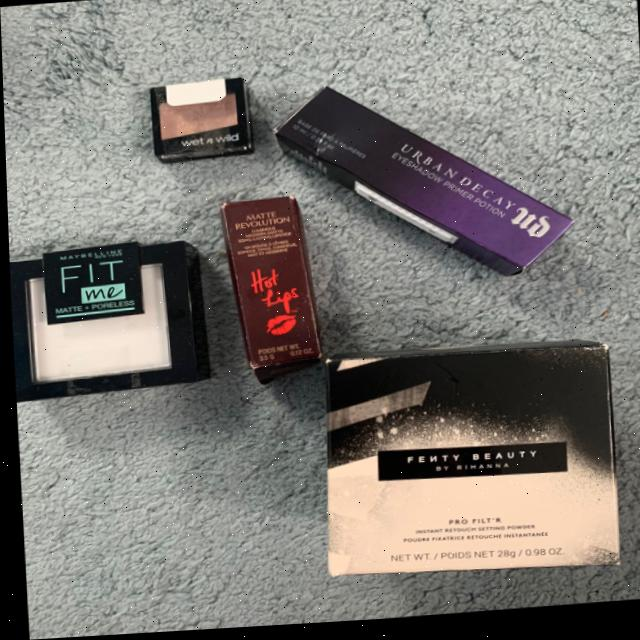highlighter: (137, 69, 263, 169)
lip stick: (200, 181, 317, 378)
powder: (7, 224, 201, 416)
primer: (279, 52, 578, 293)
